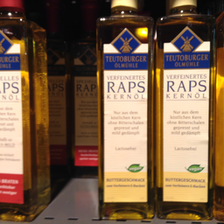oil: (157, 1, 217, 222), (96, 1, 155, 222), (1, 1, 51, 223)
